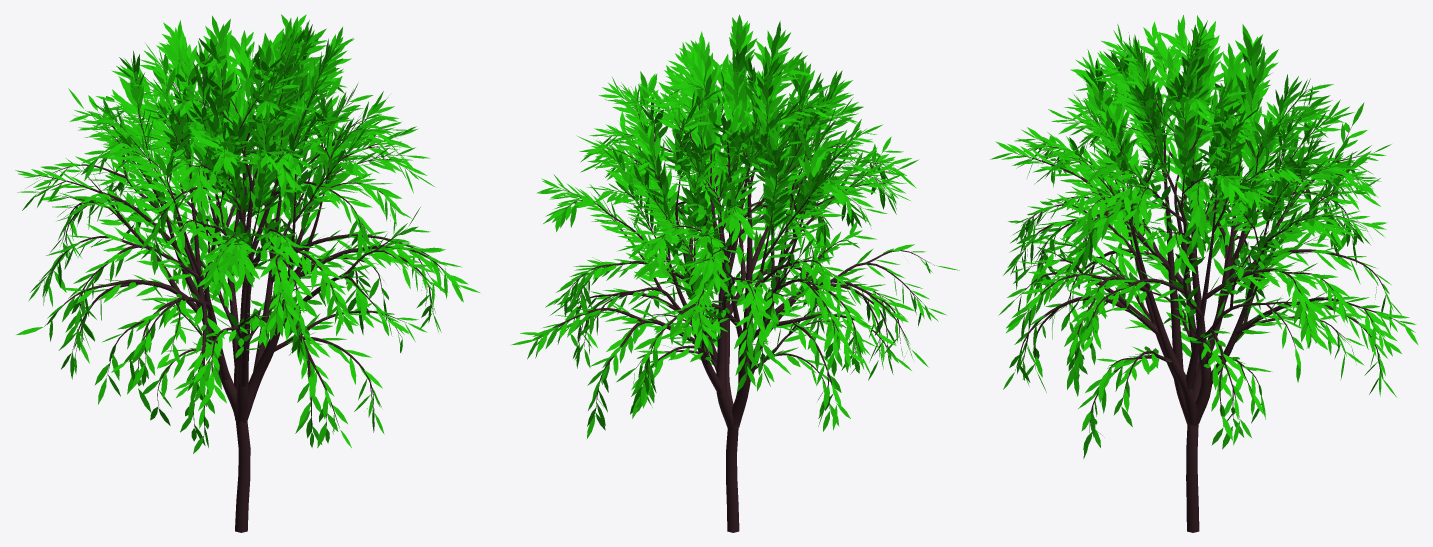
File: treebasic.fbx
3 renders of one model, left to right at view 1: azimuth 30°, elevation 25°; view 2: azimuth 150°, elevation 25°; view 3: azimuth 270°, elevation 25°, orthographic. The views are drawn at different scales.
Visible parts, largest first — view 1: tree; view 2: tree; view 3: tree.
Boxes of the visible parts, <box> form: tree: <box>15,14,480,532</box>; tree: <box>510,14,959,532</box>; tree: <box>990,15,1418,532</box>.
Size of the model in its own units: 594 by 603 by 786.
